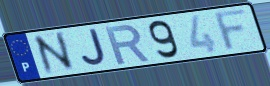4: (189, 13, 219, 55)
9: (147, 19, 180, 59)
F: (212, 6, 250, 54)
J: (80, 27, 109, 68)
N: (31, 30, 79, 77)
R: (103, 23, 152, 67)
